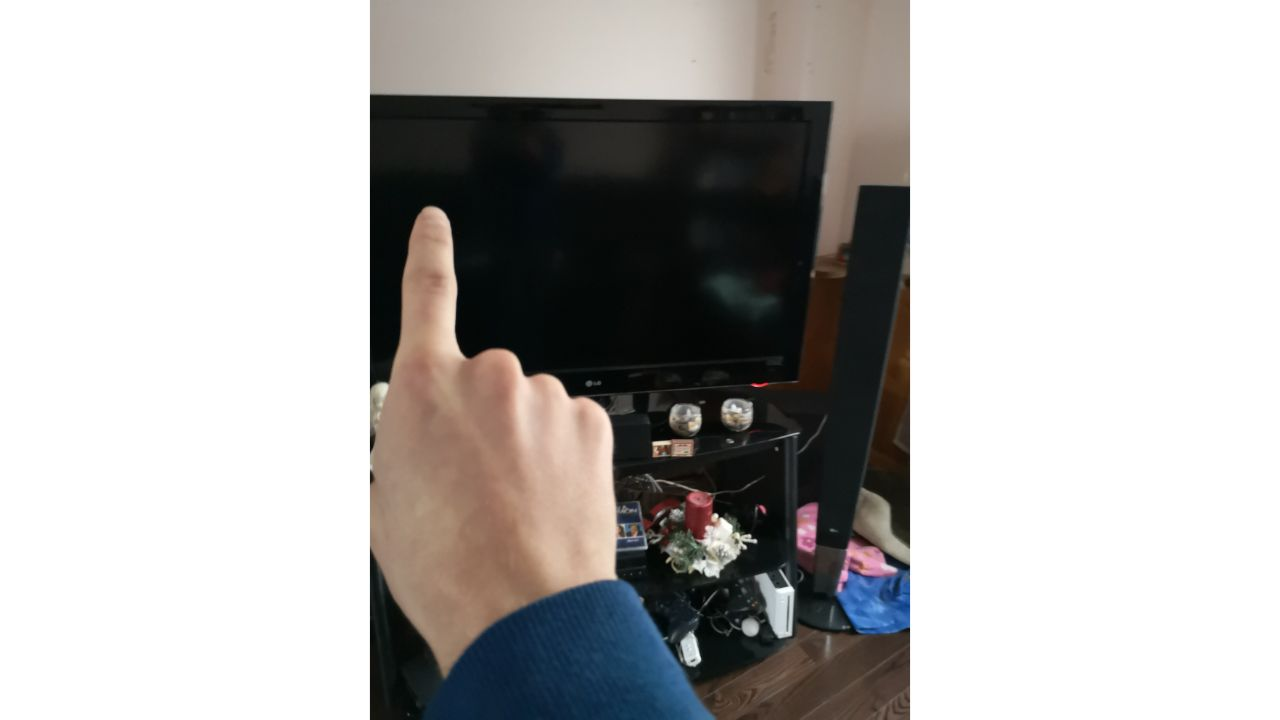finger: (377, 204, 629, 624)
